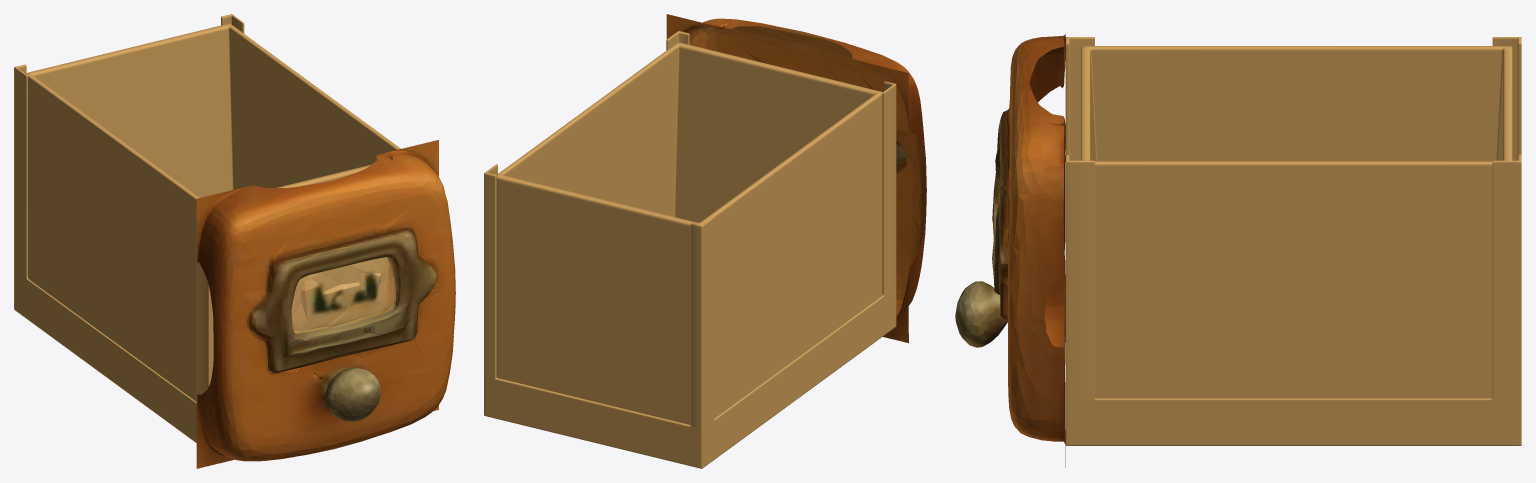
File: drawer_bottom_right.glb
3 renders of one model, left to right at view 1: azimuth 30°, elevation 25°; view 2: azimuth 150°, elevation 25°; view 3: azimuth 270°, elevation 25°, orthographic. The views are drawn at different scales.
Parts seen in each view (by area): view 1: prefab_drawer_body_6, source_front_cap_0; view 2: prefab_drawer_body_6, source_front_cap_0; view 3: prefab_drawer_body_6, source_front_cap_0.
Part boxes in pixels (x1,y1,x2,y2): prefab_drawer_body_6: (14,14,400,442); source_front_cap_0: (196,140,455,468); prefab_drawer_body_6: (484,31,896,468); source_front_cap_0: (666,14,926,343); prefab_drawer_body_6: (1065,37,1521,445); source_front_cap_0: (955,34,1065,467).
Bounding box in the file's own units: 0.0965 × 0.1028 × 0.1668.
2 materials, 1 textured.
